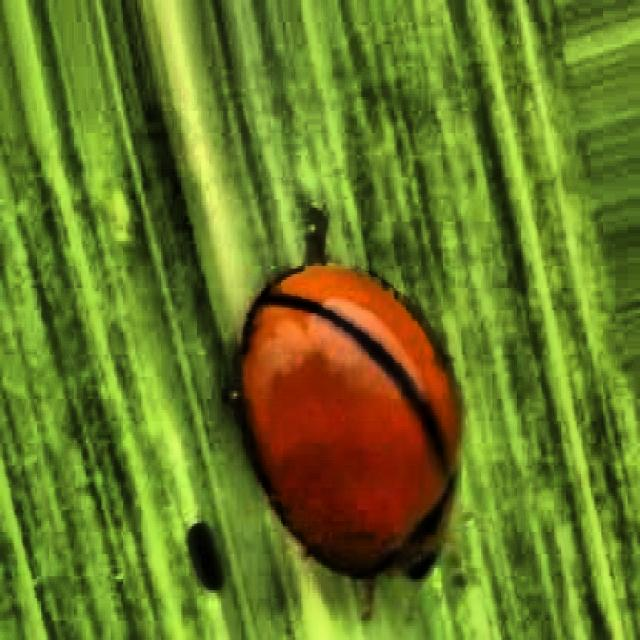Ladybug: (152, 183, 514, 640)
